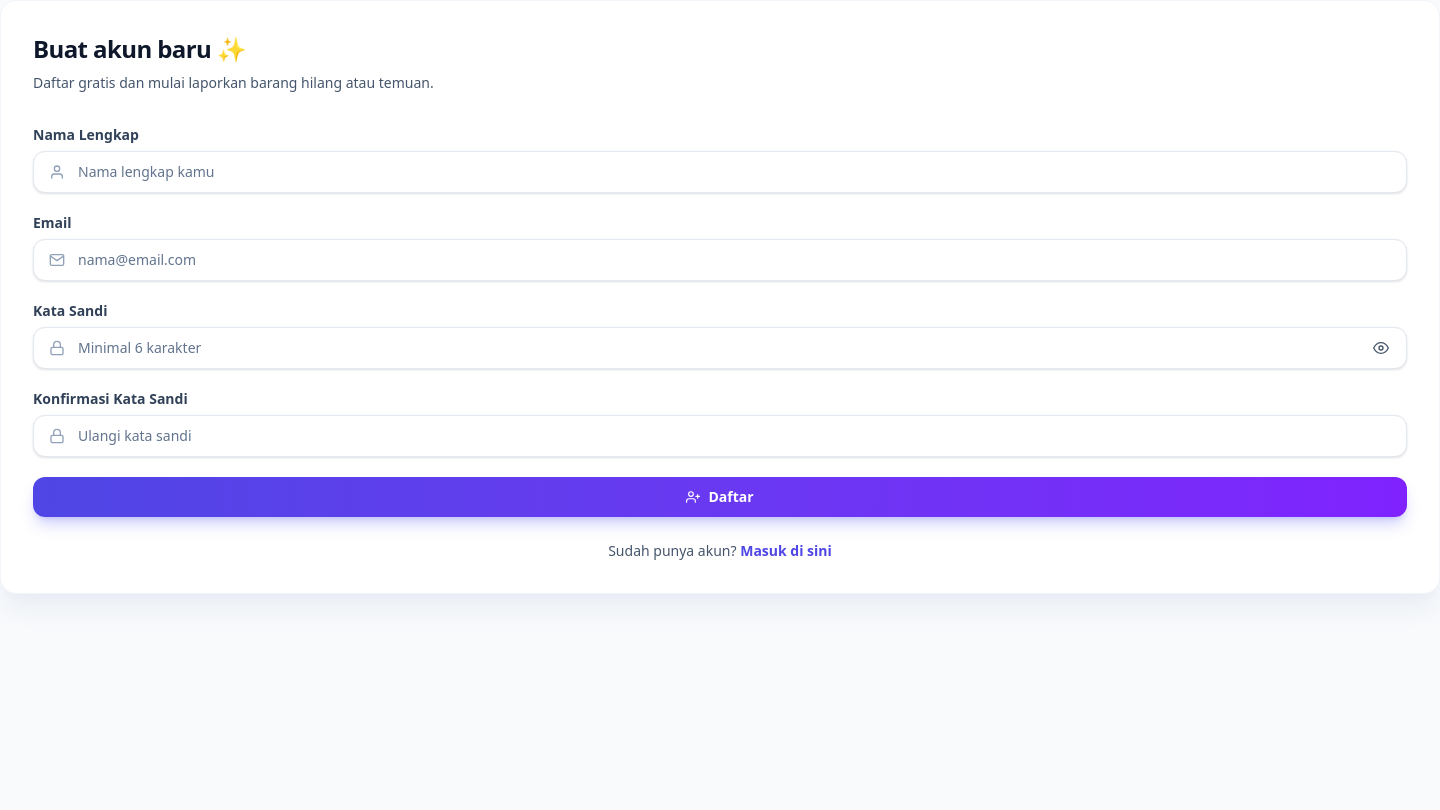
Test: RegisterPage › menampilkan pesan wajib diisi saat formulir kosong
Click the button "Daftar" at (720, 497), box [33,477,1407,517]
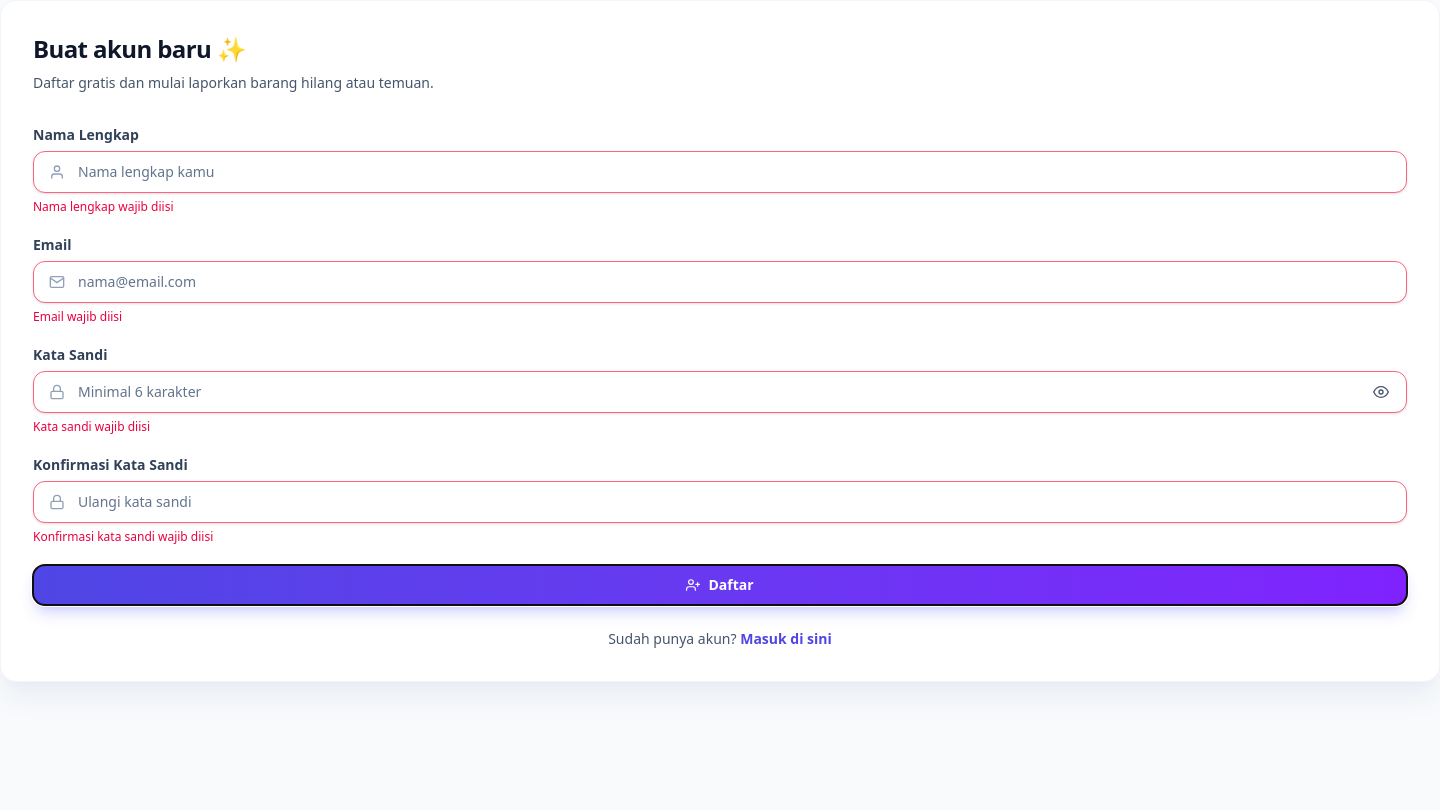
expect the text "Nama lengkap wajib diisi" is shown: met, box [33,198,174,215]
expect the text "Email wajib diisi" is shown: met, box [33,308,122,325]
expect the text "Kata sandi wajib diisi" is shown: met, box [33,418,150,435]
